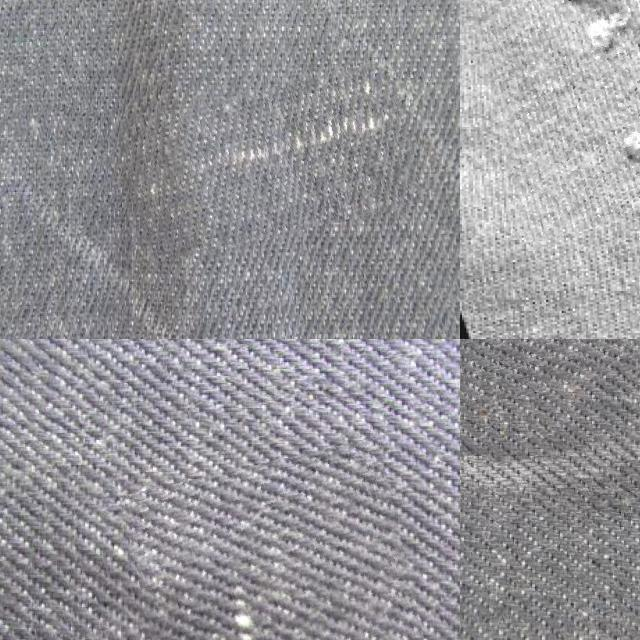stains: (133, 450, 427, 640), (124, 76, 416, 250), (469, 0, 640, 231), (460, 339, 629, 400)
